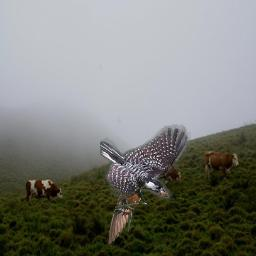Swallow: (107, 179, 148, 244)
Woodpecker: (100, 124, 191, 201)
